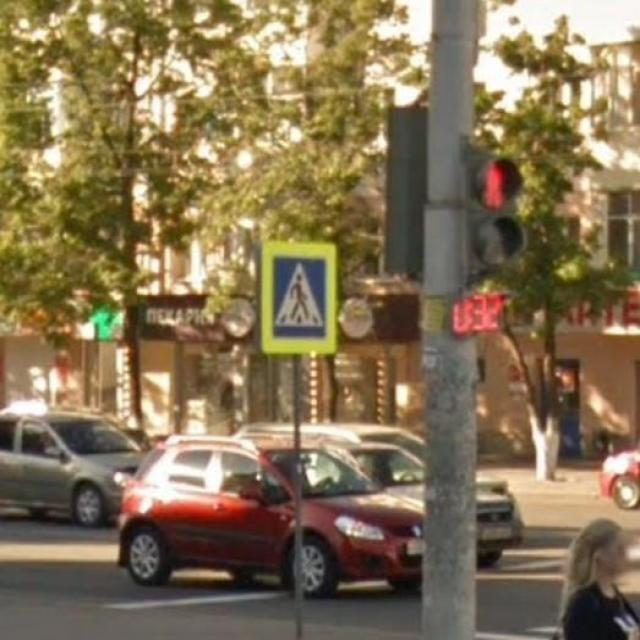traffic_sign: (257, 237, 340, 353)
